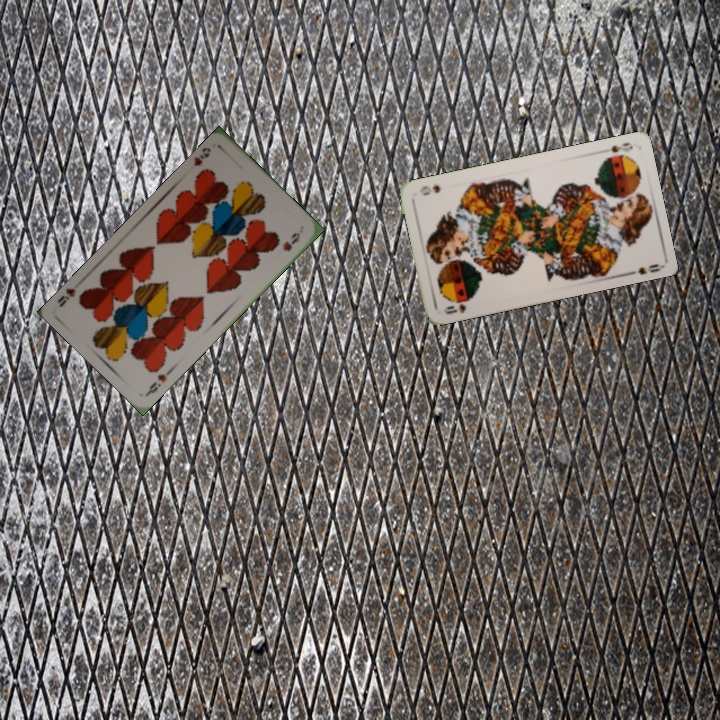H9: (143, 370, 169, 397), (190, 143, 214, 168)
SO: (440, 300, 469, 317), (607, 138, 635, 155)
